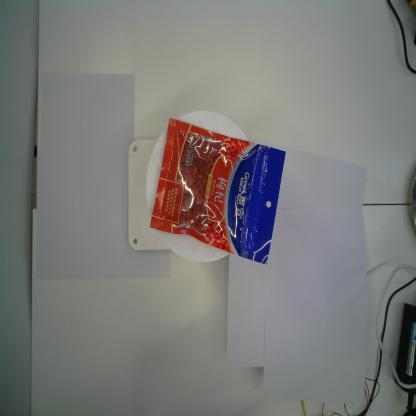Dried Fruit: (149, 117, 287, 266)
